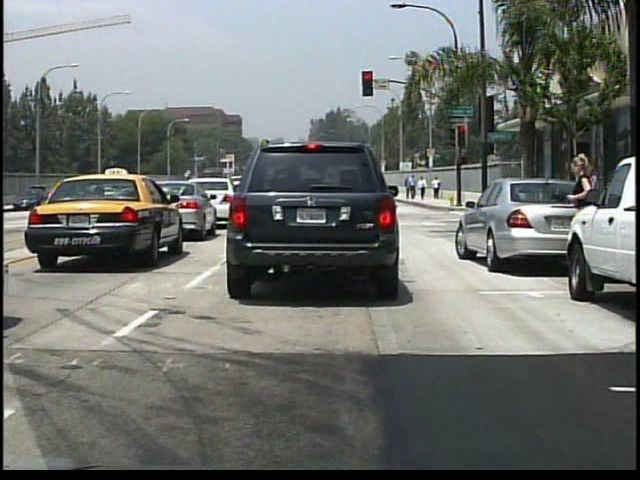person: (555, 150, 599, 279), (577, 162, 602, 232), (431, 175, 442, 201), (408, 174, 418, 200), (418, 176, 427, 202), (404, 177, 413, 199)
